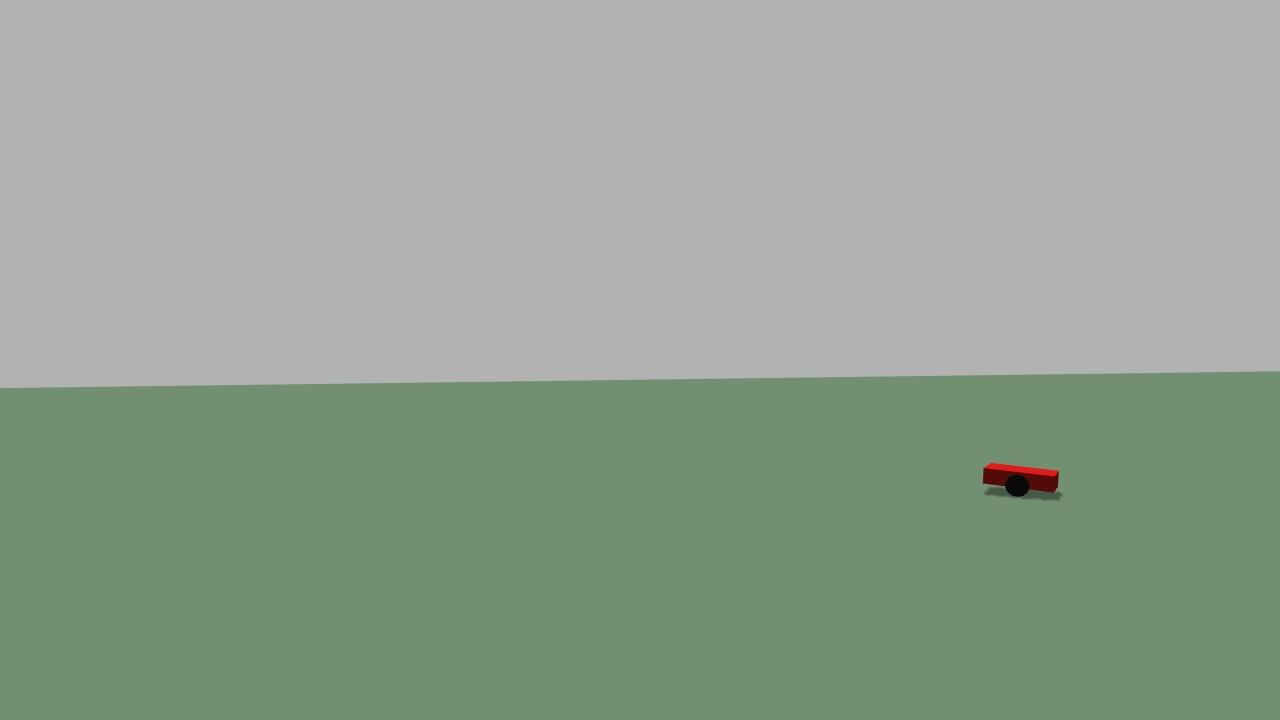ground_vehicle: (980, 456, 1064, 507)
